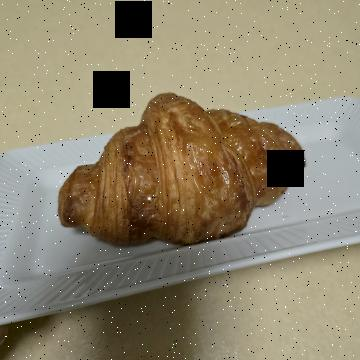croissant: (82, 34, 277, 310)
